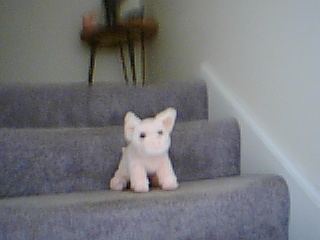piggy: (109, 107, 182, 193)
